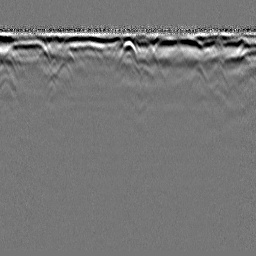cavity: (117, 39, 140, 63)
